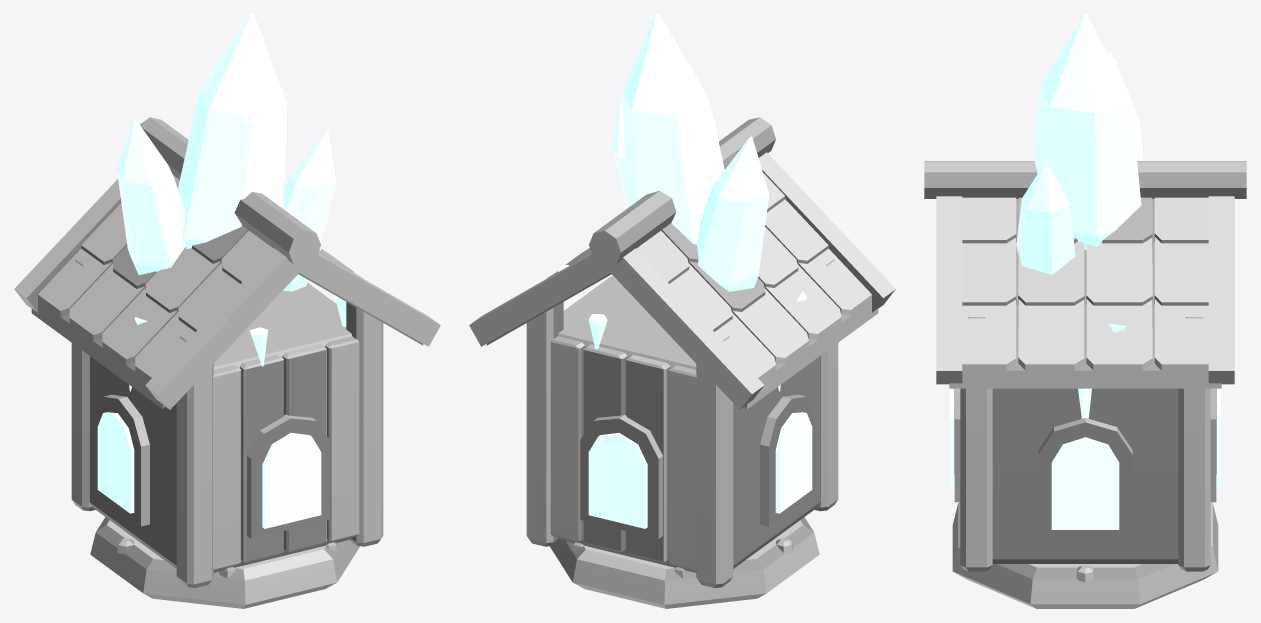
The model's file is glacier.glb.
3 renders of one model, left to right at view 1: azimuth 30°, elevation 25°; view 2: azimuth 150°, elevation 25°; view 3: azimuth 270°, elevation 25°, orthographic. The views are drawn at different scales.
Visible parts, largest first — view 1: glacier.001; view 2: glacier.001; view 3: glacier.001.
Part boxes in pixels (x1,y1,x2,y2): glacier.001: [14, 14, 440, 608]; glacier.001: [469, 14, 895, 608]; glacier.001: [924, 14, 1246, 608].
Size of the model in its own units: 1.37 by 2.48 by 1.3.
